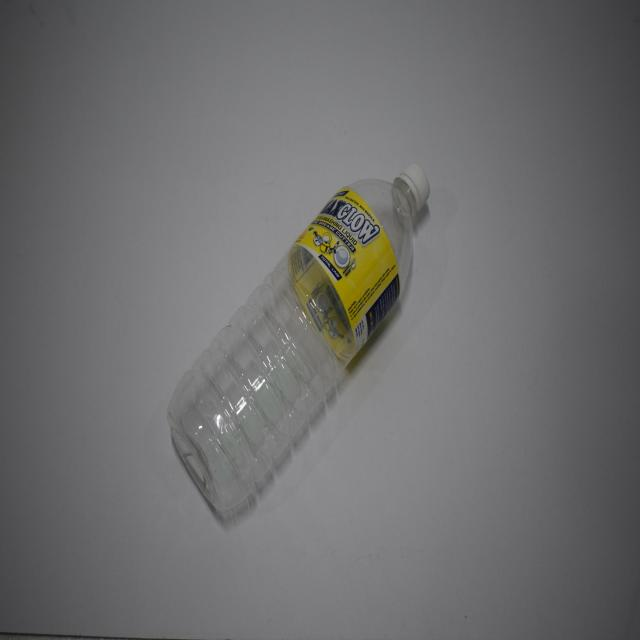plastic: (162, 155, 436, 525)
